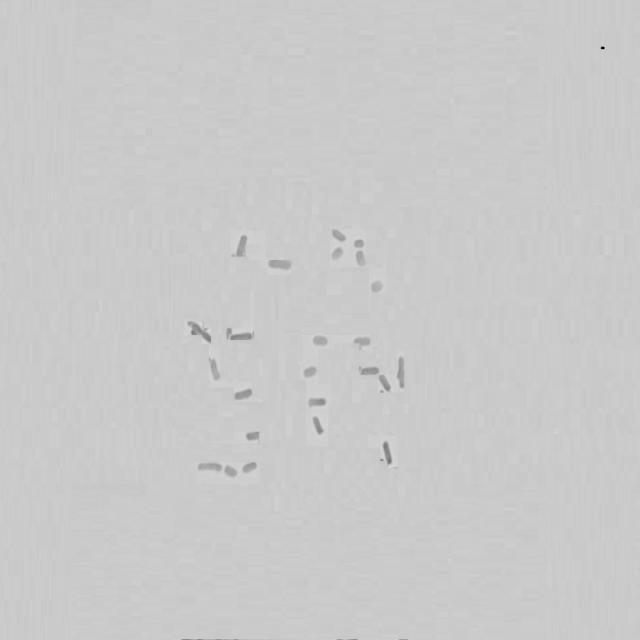E-coli: (183, 320, 213, 343), (269, 254, 295, 276), (381, 437, 396, 472), (234, 227, 250, 259), (233, 384, 255, 407), (349, 334, 373, 354), (231, 326, 254, 346), (241, 455, 260, 479), (359, 360, 379, 382), (197, 456, 221, 474), (331, 223, 350, 245), (312, 329, 332, 349), (208, 356, 221, 386), (397, 353, 407, 392), (380, 373, 395, 397), (352, 249, 368, 271), (308, 393, 326, 411), (301, 363, 319, 381), (244, 429, 262, 445), (370, 277, 385, 295), (311, 413, 323, 435), (352, 236, 368, 251), (330, 246, 344, 262), (226, 462, 238, 478)
